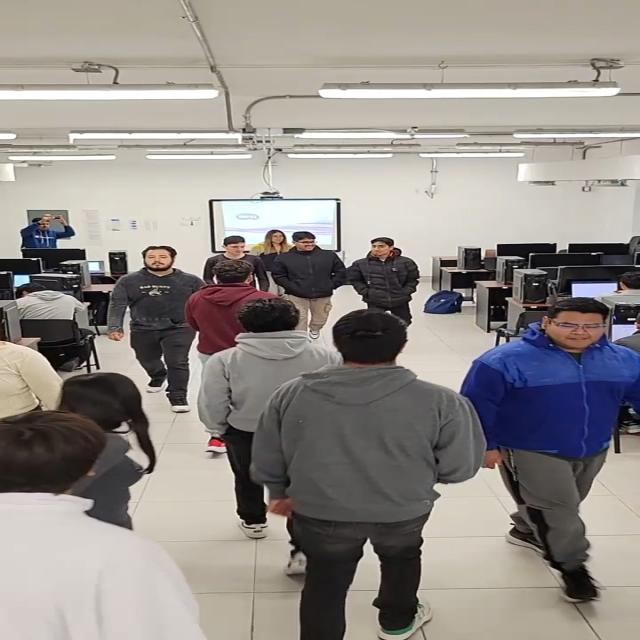Persona: (249, 305, 487, 640), (453, 299, 640, 607), (0, 409, 215, 640), (195, 298, 338, 580), (42, 373, 160, 530), (102, 244, 208, 413), (175, 266, 274, 392), (269, 230, 348, 340), (351, 236, 422, 328), (0, 338, 71, 419), (202, 236, 273, 294), (250, 230, 284, 270)
